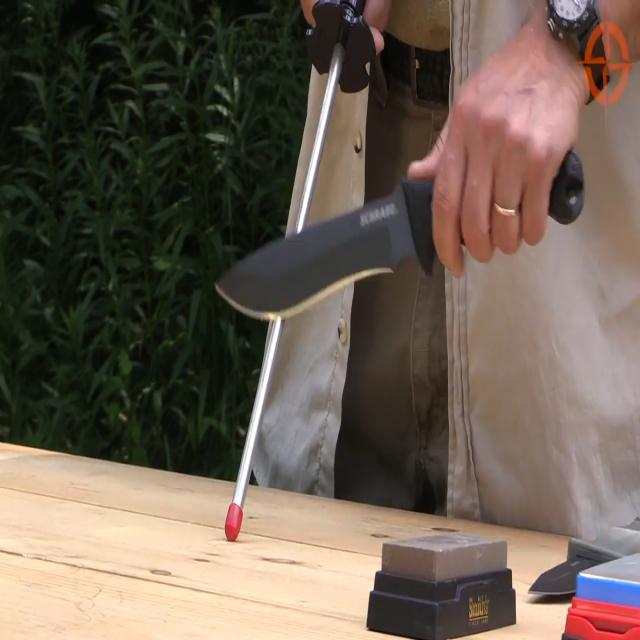knife: (202, 188, 446, 341)
